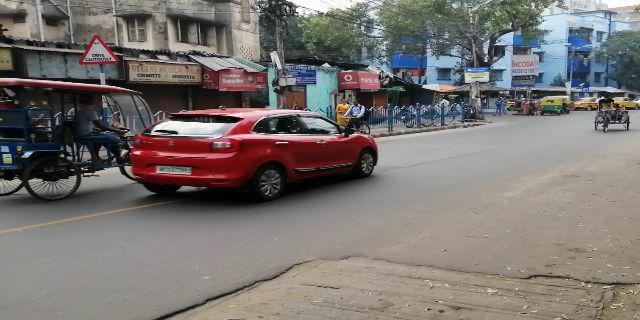Car: (140, 108, 379, 195)
Rickshaw: (8, 74, 147, 196), (595, 98, 632, 131)
